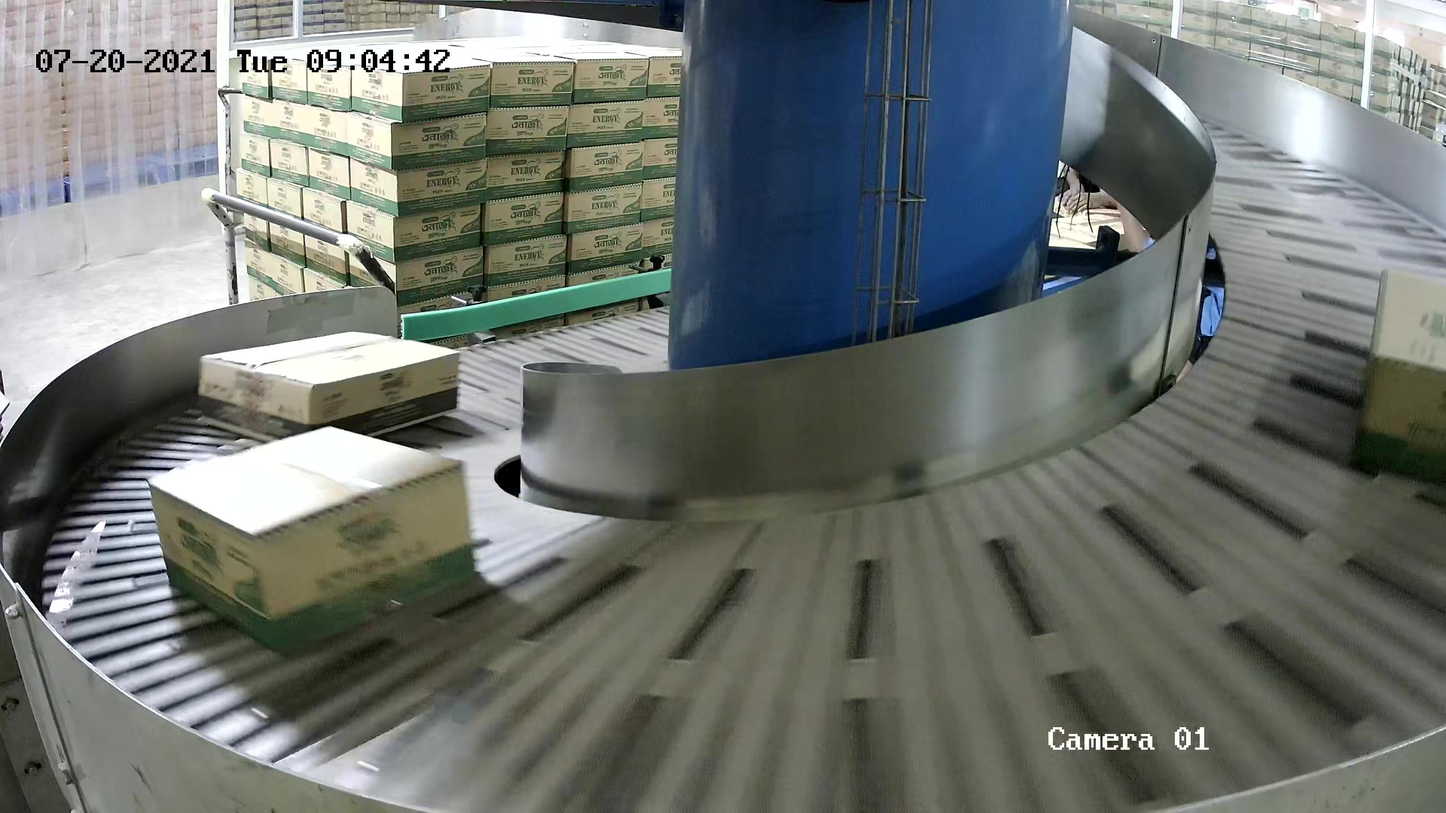Box: (145, 420, 481, 658), (194, 327, 463, 449), (1354, 262, 1446, 490)
